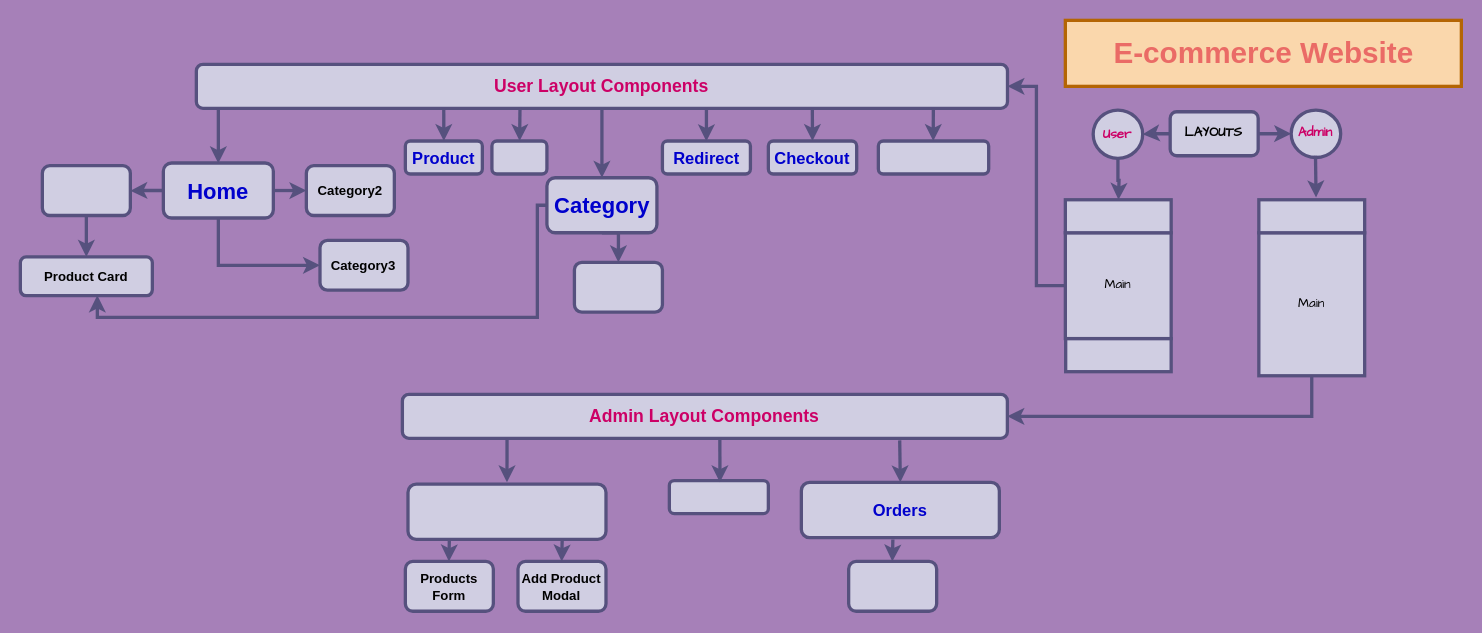
The diagram is 1482 pixels wide and 633 high, and some of its shapes have lost their labels. The centre of each missing label's shape, as x and y in pixels:
Admin Header: (x=1311, y=216)
Admin Login: (x=933, y=157)
Cart: (x=519, y=157)
Category1: (x=85, y=190)
Footer: (x=1117, y=354)
Header: (x=1117, y=216)
Order Modal: (x=892, y=585)
Product Management: (x=506, y=511)
SideBar: (x=618, y=286)
Stock/Price: (x=718, y=496)
